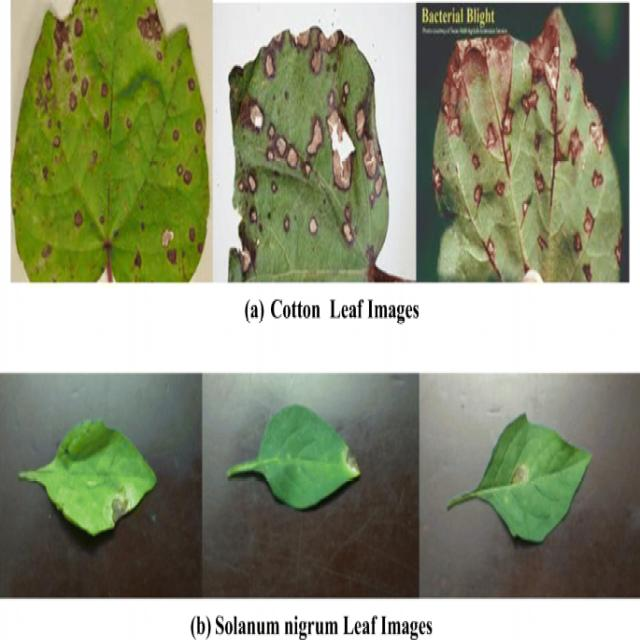blight: (250, 85, 330, 211), (444, 26, 522, 142), (44, 8, 91, 103)
